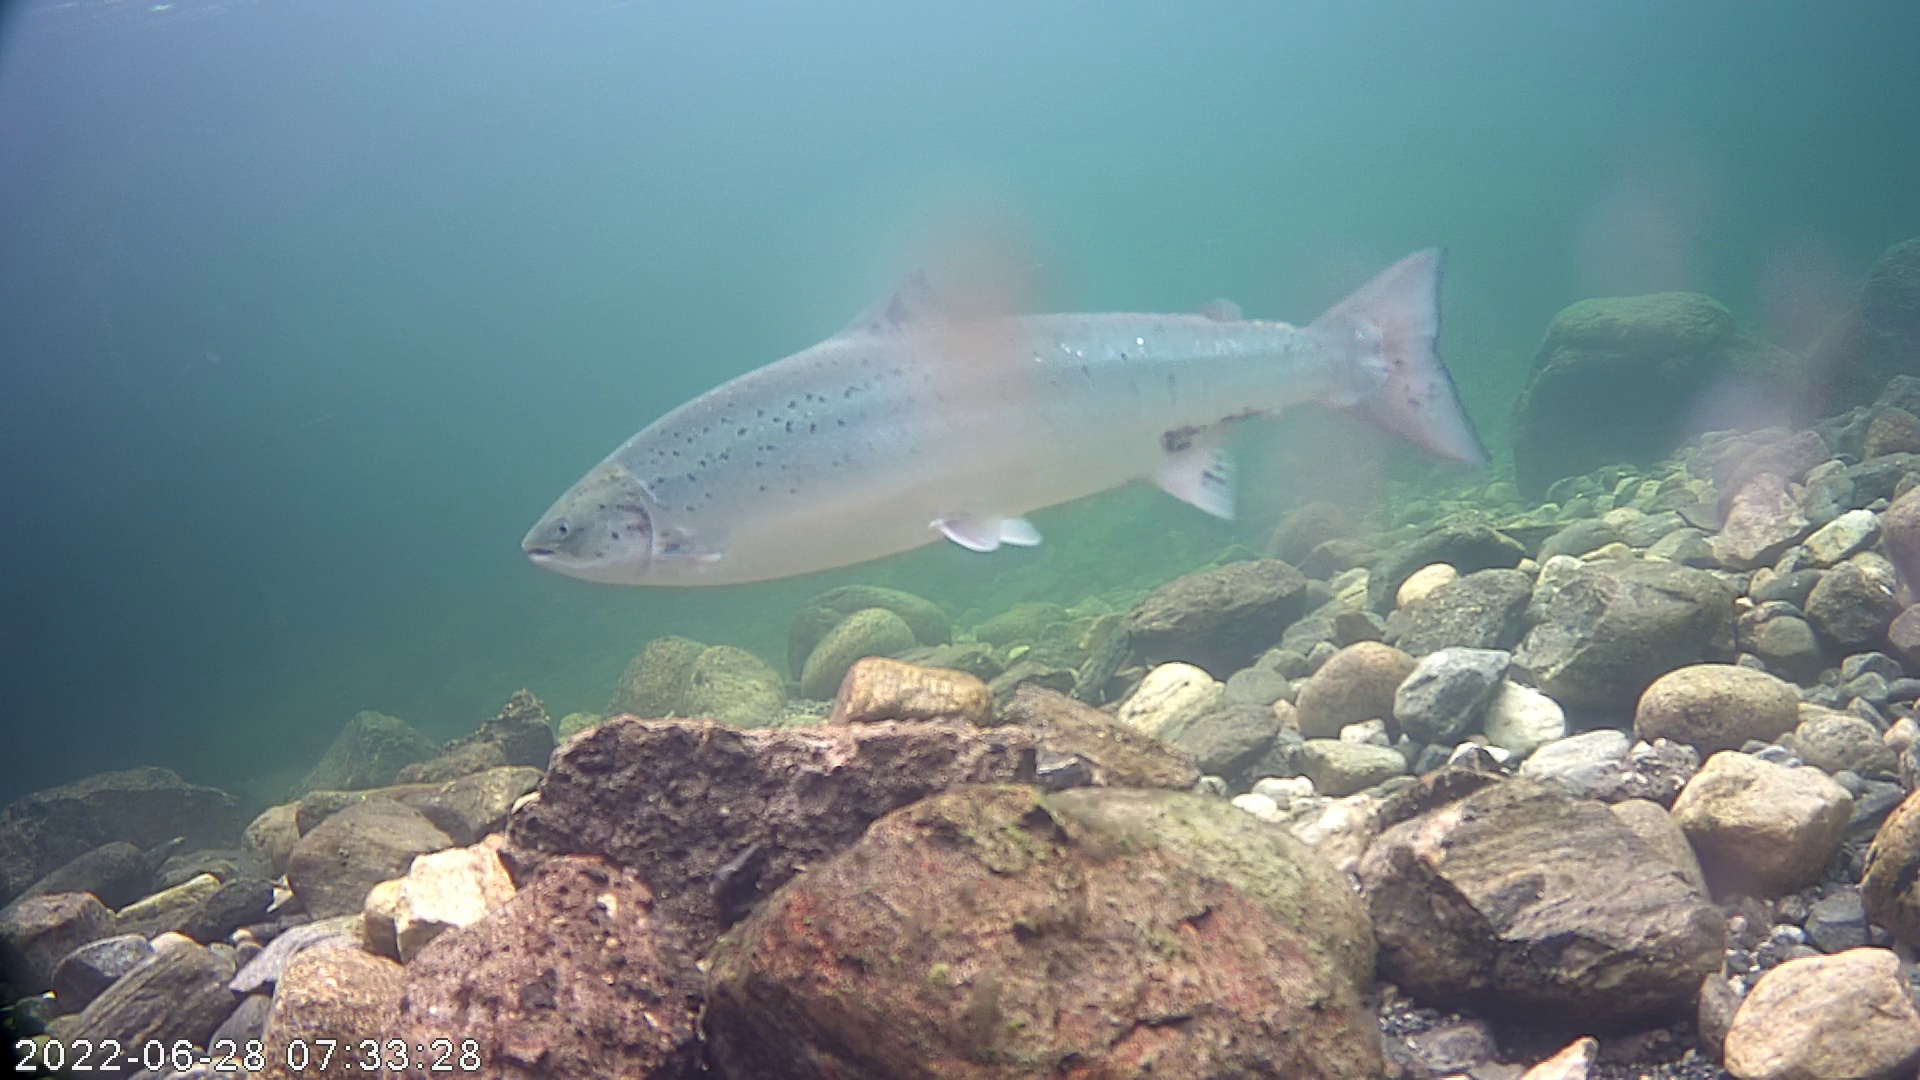salmon: (518, 187, 1514, 615)
